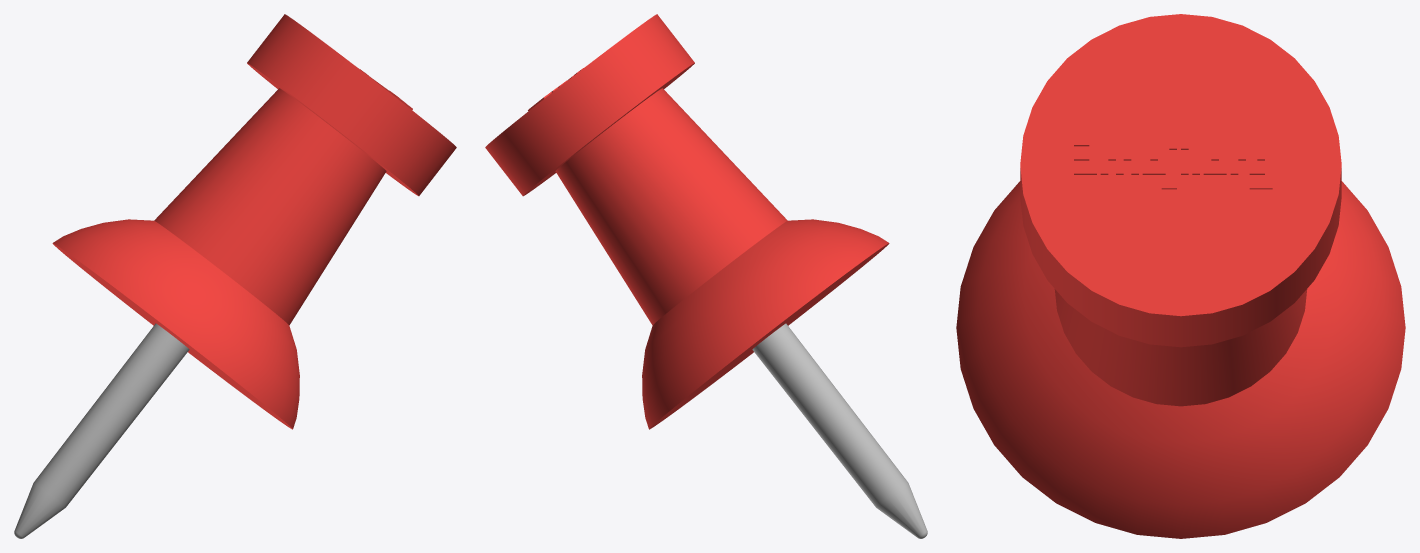
Rendered from pushpin.gltf.
3 views of the same model, side by side, from view 1: azimuth 30°, elevation 25°; view 2: azimuth 150°, elevation 25°; view 3: azimuth 270°, elevation 25° (orthographic). The views are drawn at different scales.
Visible parts, largest first — view 1: Circle.2569; view 2: Circle.2569; view 3: Circle.2569.
Boxes of the visible parts, x1,y1,x2,y2 form: Circle.2569: [14, 14, 456, 538]; Circle.2569: [485, 14, 927, 538]; Circle.2569: [956, 14, 1405, 538].
Bounding box in the file's own units: 2.15 × 2.15 × 1.35.
Materials: 1 (1 with a texture image).
